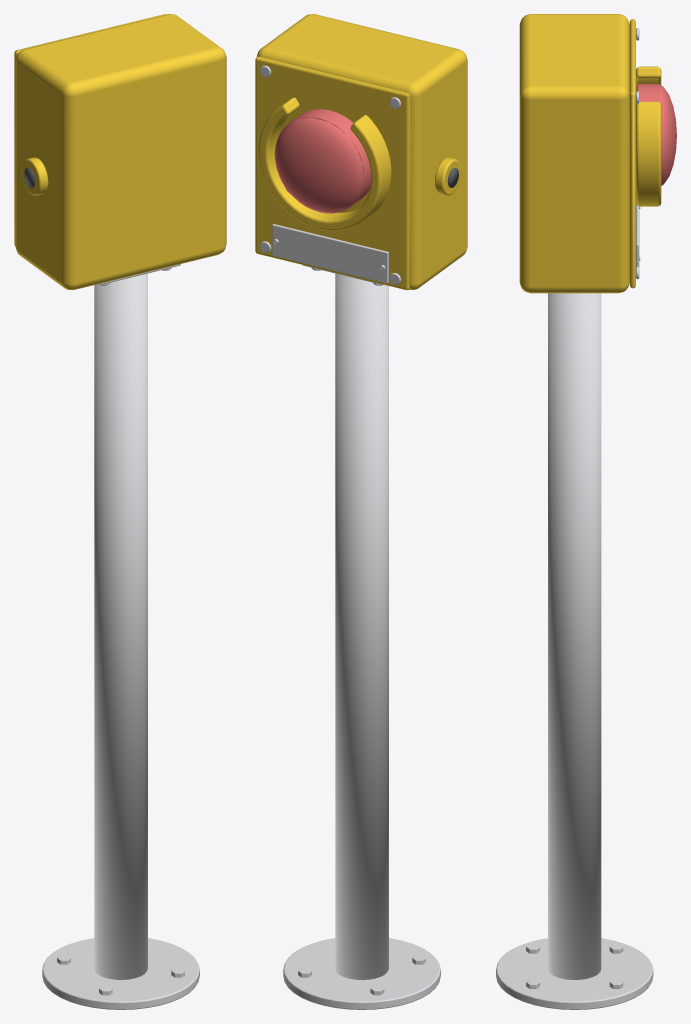
The model's file is EStop.fbx.
3 renders of one model, left to right at view 1: azimuth 30°, elevation 25°; view 2: azimuth 150°, elevation 25°; view 3: azimuth 270°, elevation 25°, orthographic.
Visible parts, largest first — view 1: E-Stop Housing, E-Stop Post; view 2: E-Stop Post, E-Stop Housing, E-Stop Head; view 3: E-Stop Post, E-Stop Housing, E-Stop Head.
Part boxes in pixels (x1,y1,x2,y2): E-Stop Housing: [14, 14, 226, 290]; E-Stop Post: [42, 264, 199, 1009]; E-Stop Post: [283, 265, 440, 1009]; E-Stop Housing: [255, 14, 467, 290]; E-Stop Head: [274, 109, 370, 213]; E-Stop Post: [496, 293, 653, 1009]; E-Stop Housing: [519, 14, 661, 293]; E-Stop Head: [637, 84, 676, 185].
Bounding box in the file's own units: 0.2545 × 1.3 × 0.23.
